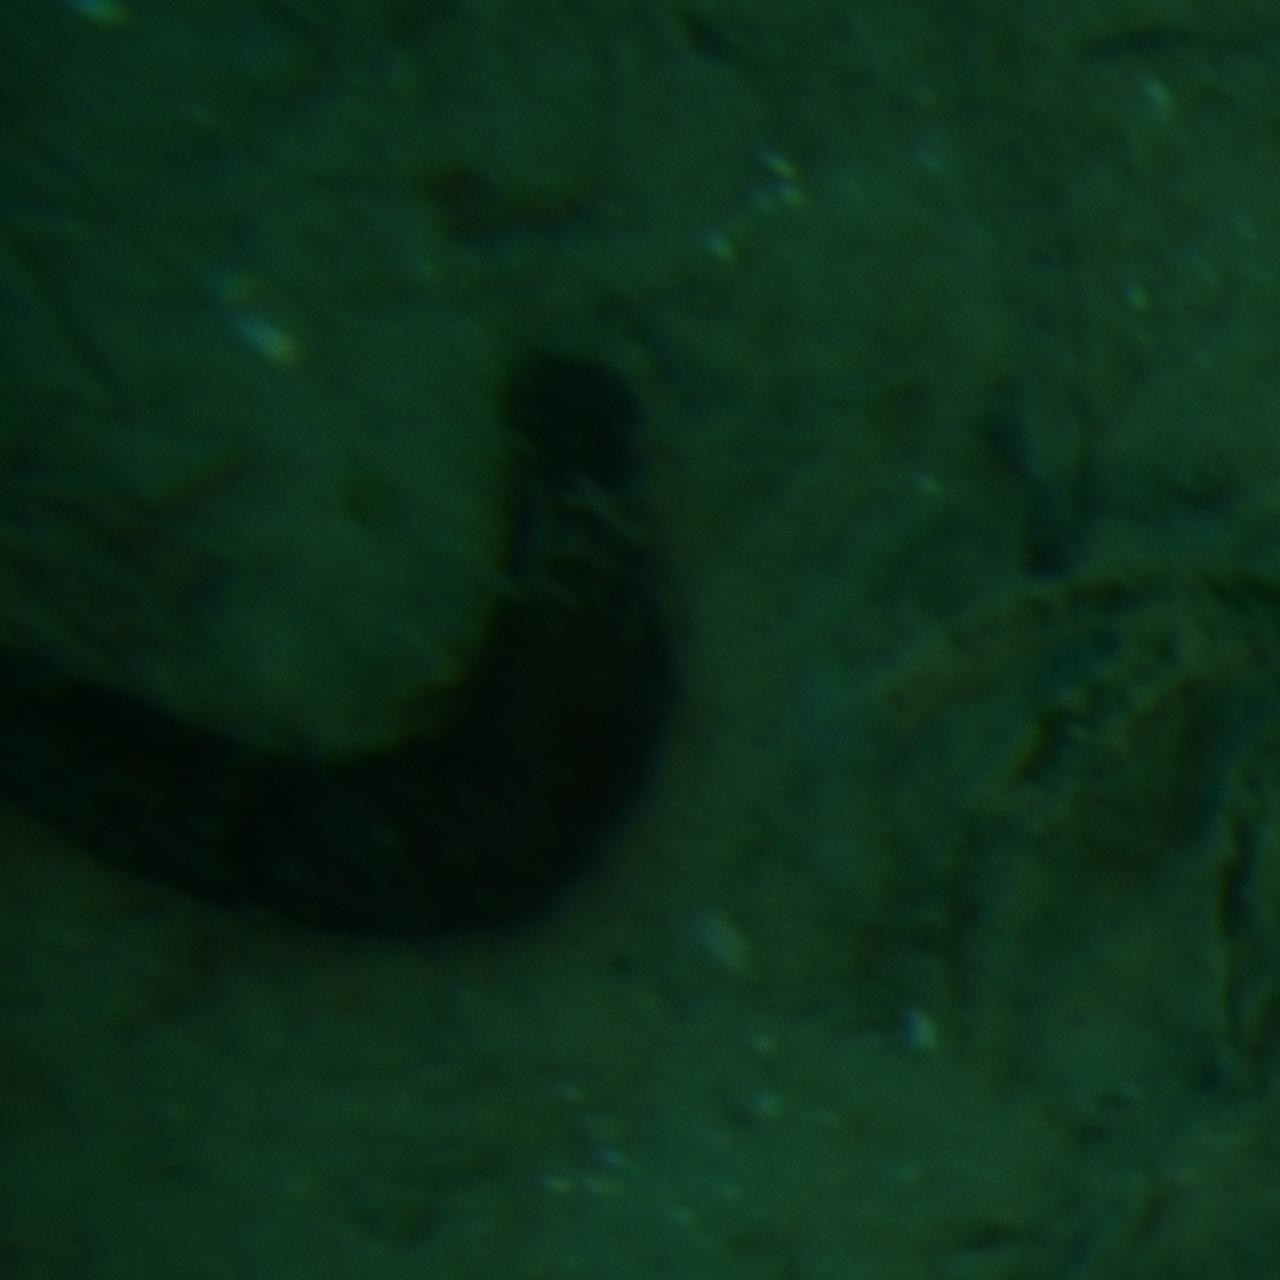Holothuria tubulosa: (0, 335, 680, 945)
